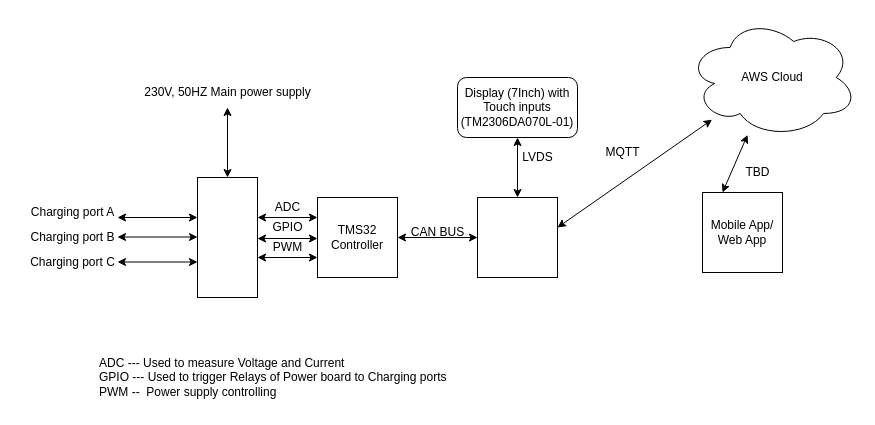
This 875x425 diagram has some shape labels left out. Each missing label, with the centre of its shape:
EV circuitary: (x=227, y=237)
RB-i.MX6UL with ATWILC3000 WiFi module: (x=517, y=237)
